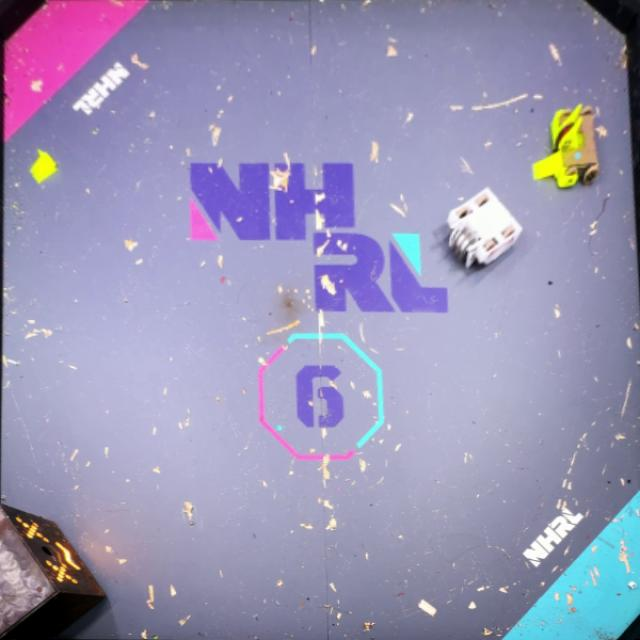housebot: (0, 503, 110, 640)
robot: (447, 186, 522, 271), (532, 104, 599, 188)
